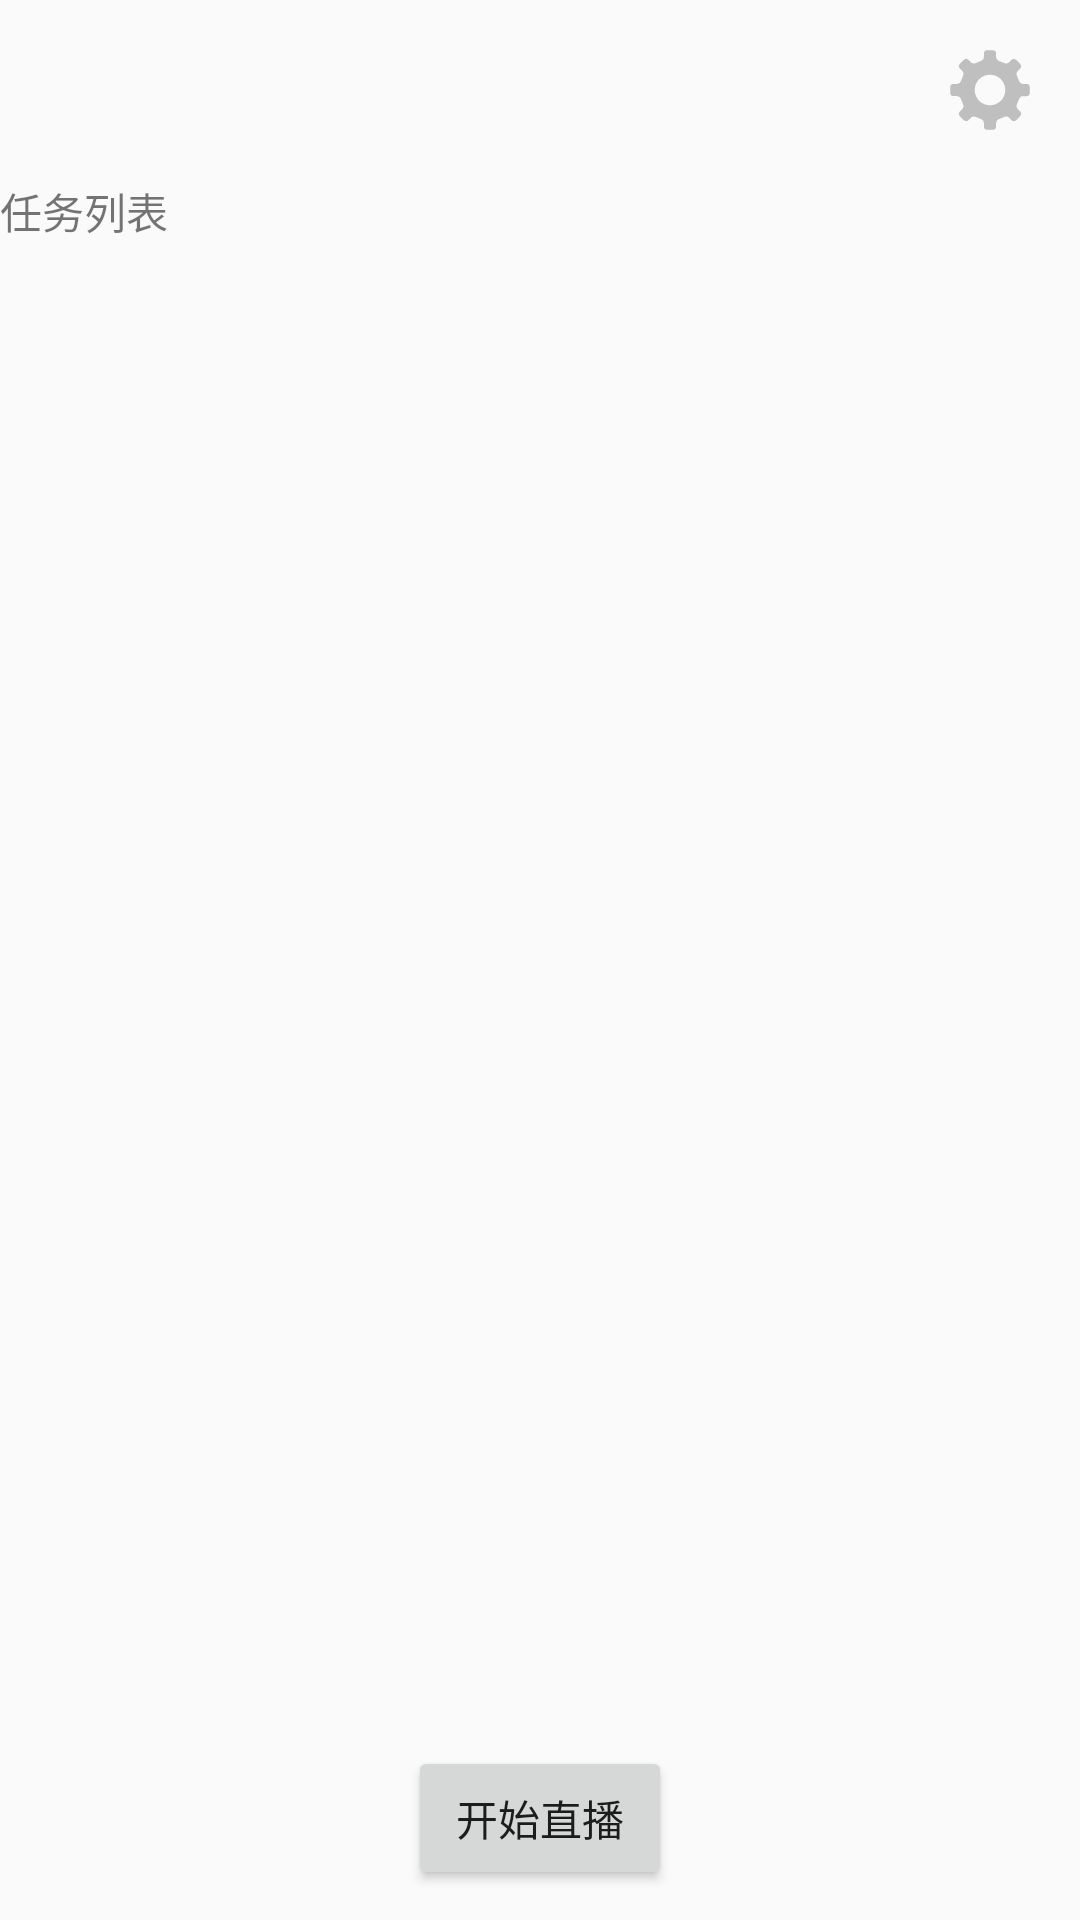

Icons on this 1080x1920 Android screen, each with the point to tap as (x,y):
set: (990,90)
